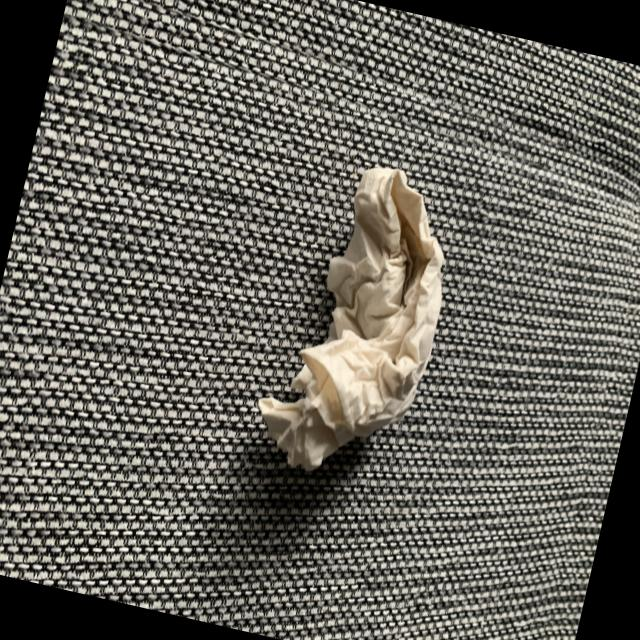organic waste: (245, 142, 478, 497)
